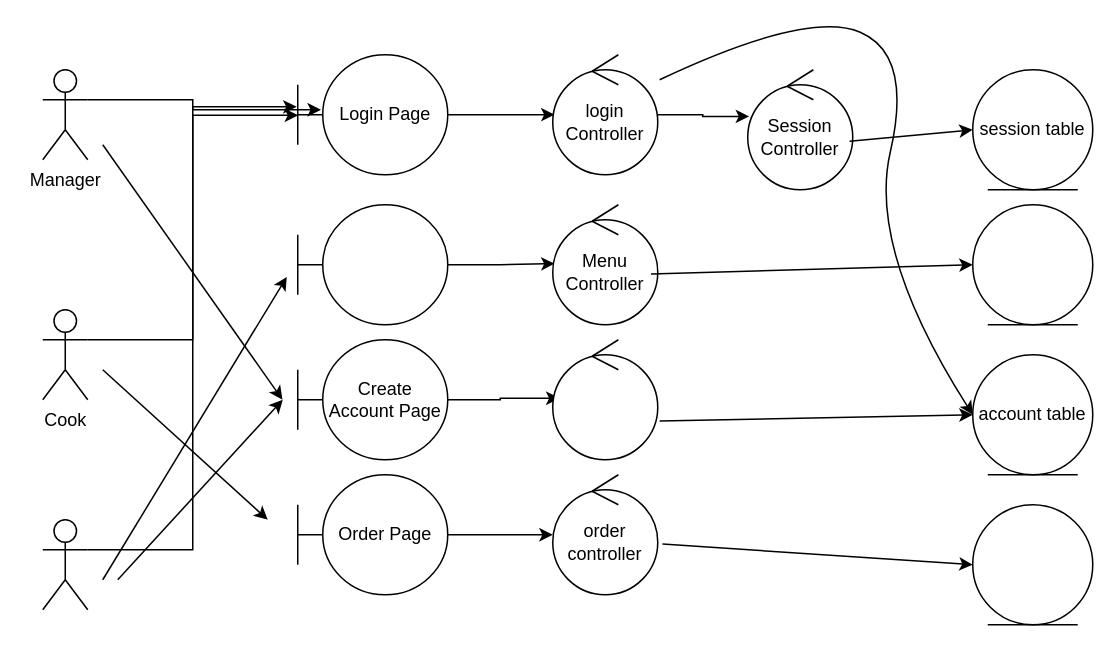
Image size: 1119x668. Some labels were removed from this diagram. The box of each missing label's shape, as (x1, y1, x2, y2) in pixels:
Create acc controller: (551, 338, 658, 460)
Customer: (41, 518, 88, 610)
menu table: (971, 203, 1093, 325)
MenuPage: (296, 203, 448, 325)
orders table: (971, 503, 1093, 625)
